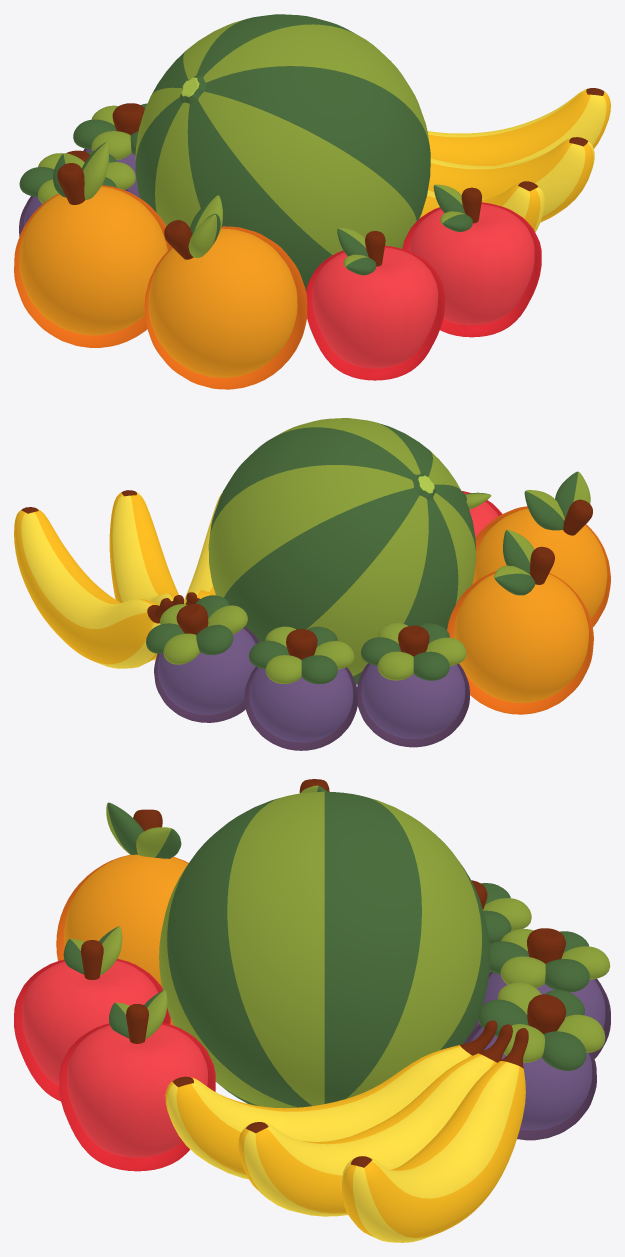
Rendered from fruit.glb.
3 renders of one model, top to bottom at view 1: azimuth 30°, elevation 25°; view 2: azimuth 150°, elevation 25°; view 3: azimuth 270°, elevation 25°, orthographic. The views are drawn at different scales.
Parts seen in each view (by area): view 1: Watermellon, Core (×4), Bannanas, Stem (×6), Outer_Layer (×4); view 2: Watermellon, Core (×6), Stem (×5), Bannanas, Outer_Layer (×5); view 3: Watermellon, Bannanas, Core (×5), Stem (×6), Outer_Layer (×4).
Part boxes in pixels (bbox=[...]): Watermellon: bbox=[135, 14, 430, 290]; Core (×4): bbox=[19, 186, 534, 377]; Bannanas: bbox=[419, 88, 610, 232]; Stem (×6): bbox=[19, 103, 481, 275]; Outer_Layer (×4): bbox=[14, 185, 541, 389]; Watermellon: bbox=[208, 418, 475, 684]; Core (×6): bbox=[157, 493, 607, 742]; Stem (×5): bbox=[146, 471, 592, 684]; Bannanas: bbox=[14, 490, 221, 668]; Outer_Layer (×5): bbox=[154, 506, 610, 750]; Watermellon: bbox=[159, 791, 490, 1108]; Bannanas: bbox=[165, 1020, 528, 1242]; Core (×5): bbox=[21, 854, 605, 1157]; Stem (×6): bbox=[63, 802, 610, 1070]; Outer_Layer (×4): bbox=[14, 855, 596, 1171].
Size of the model in its own units: 0.4726 by 0.2 by 0.3605.
1 material, 1 textured.
